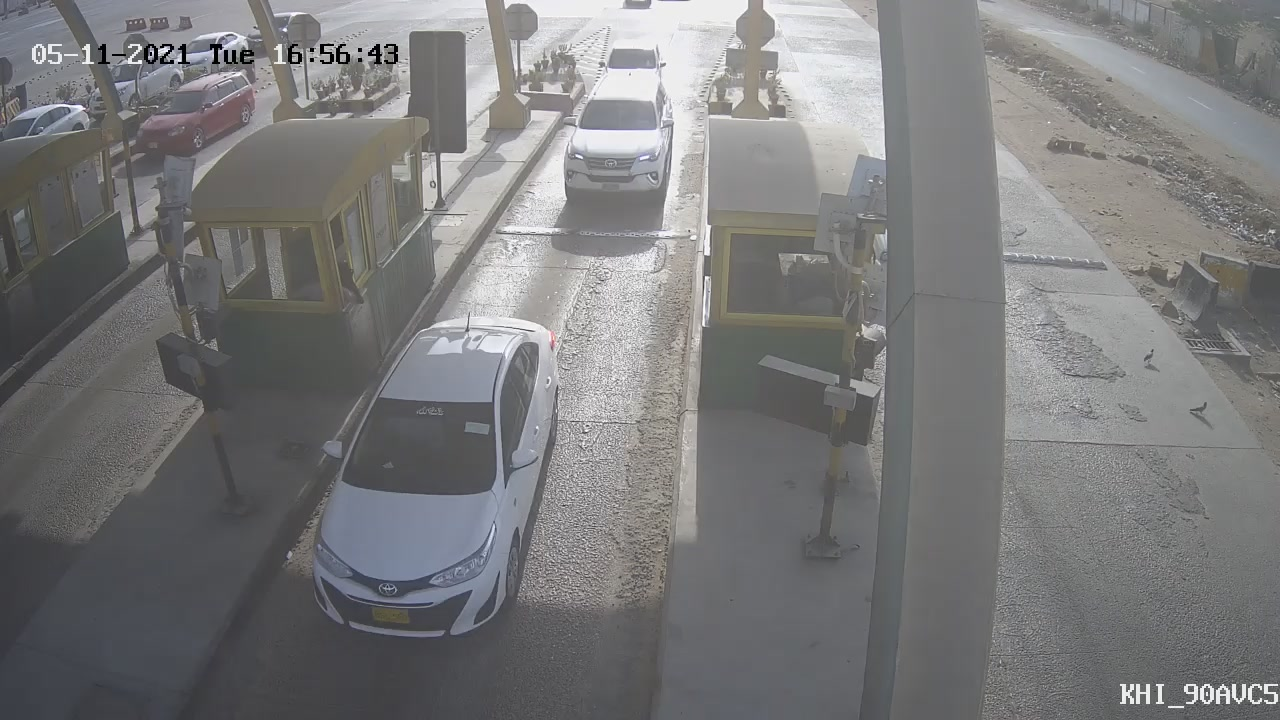F1: (534, 55, 695, 221)
